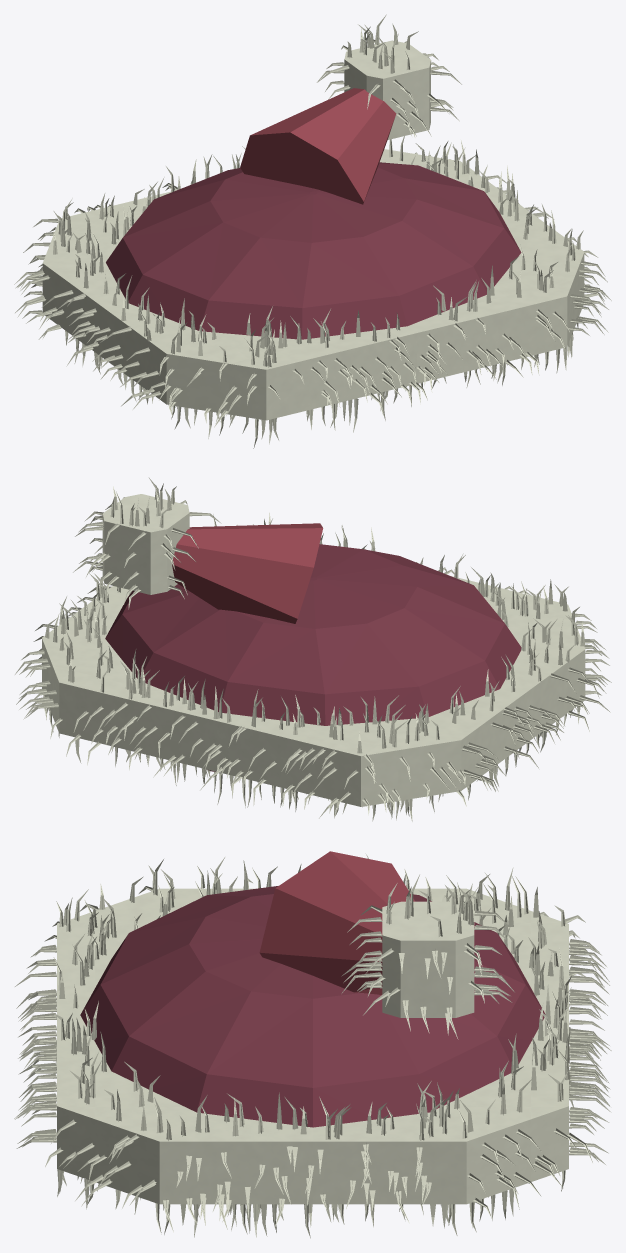
File: yulecap.glb
3 renders of one model, top to bottom at view 1: azimuth 30°, elevation 25°; view 2: azimuth 150°, elevation 25°; view 3: azimuth 270°, elevation 25°, orthographic. The views are drawn at different scales.
Parts seen in each view (by area): view 1: Quartermaster Cap.002, Quartermaster Cap.002 / shearling / game fur; view 2: Quartermaster Cap.002, Quartermaster Cap.002 / shearling / game fur; view 3: Quartermaster Cap.002, Quartermaster Cap.002 / shearling / game fur.
Boxes of the visible parts, box(x1,y1,x2,y2) form: Quartermaster Cap.002: box(42, 40, 584, 420); Quartermaster Cap.002 / shearling / game fur: box(14, 14, 611, 448); Quartermaster Cap.002: box(42, 494, 585, 806); Quartermaster Cap.002 / shearling / game fur: box(15, 477, 611, 821); Quartermaster Cap.002: box(57, 851, 568, 1204); Quartermaster Cap.002 / shearling / game fur: box(14, 854, 611, 1238).
Bounding box in the file's own units: 0.7852 × 0.3918 × 0.686.
Materials: 3 (2 with a texture image).
